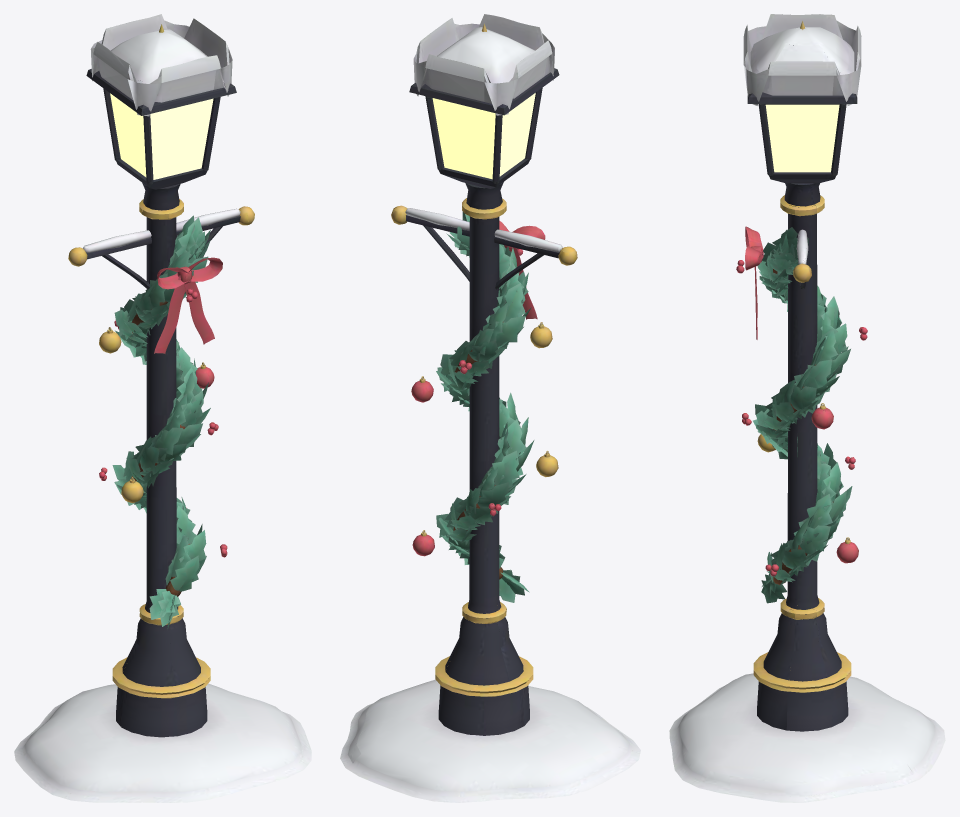
The model's file is farola_navidad.glb.
The picture shows the model from 3 angles, left to right: view 1: azimuth 30°, elevation 25°; view 2: azimuth 150°, elevation 25°; view 3: azimuth 270°, elevation 25°; orthographic projection.
Parts seen in each view (by area): view 1: christmas-lamp-post_body; view 2: christmas-lamp-post_body; view 3: christmas-lamp-post_body.
Boxes of the visible parts, <box> form: christmas-lamp-post_body: <box>14,14,311,802</box>; christmas-lamp-post_body: <box>340,14,640,802</box>; christmas-lamp-post_body: <box>669,14,945,802</box>.
Bounding box in the file's own units: 1.13 × 2.98 × 1.03.
2 materials, 1 textured.
